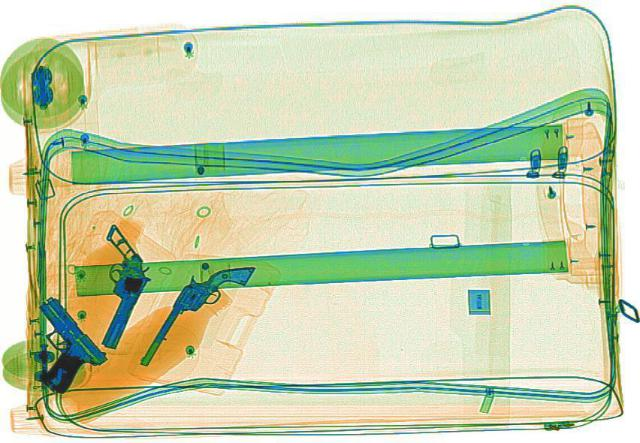Gun: (126, 251, 256, 373), (58, 221, 170, 348), (20, 294, 109, 393)
